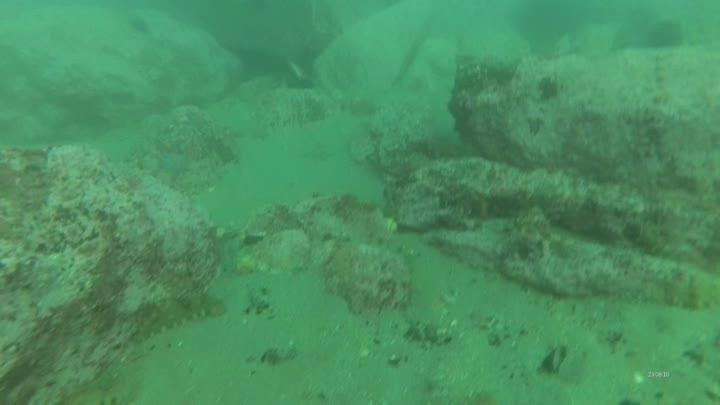echinus: (643, 18, 687, 53), (127, 16, 149, 31)
holothurian: (129, 290, 228, 340), (612, 269, 719, 314)
starfish: (155, 147, 196, 182)
